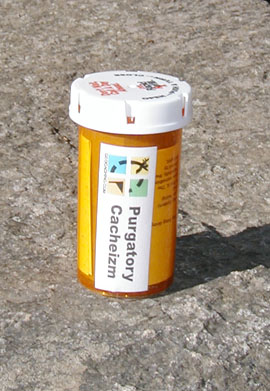pill bottle: (68, 69, 192, 302)
